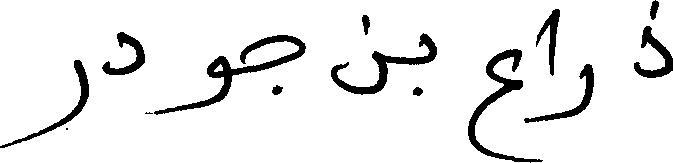X: (0, 55, 88, 152), (469, 44, 522, 162), (331, 10, 387, 99), (241, 30, 304, 99), (634, 0, 672, 82), (104, 27, 144, 79), (567, 59, 594, 121), (207, 51, 229, 110), (421, 28, 437, 98), (551, 4, 559, 124)
